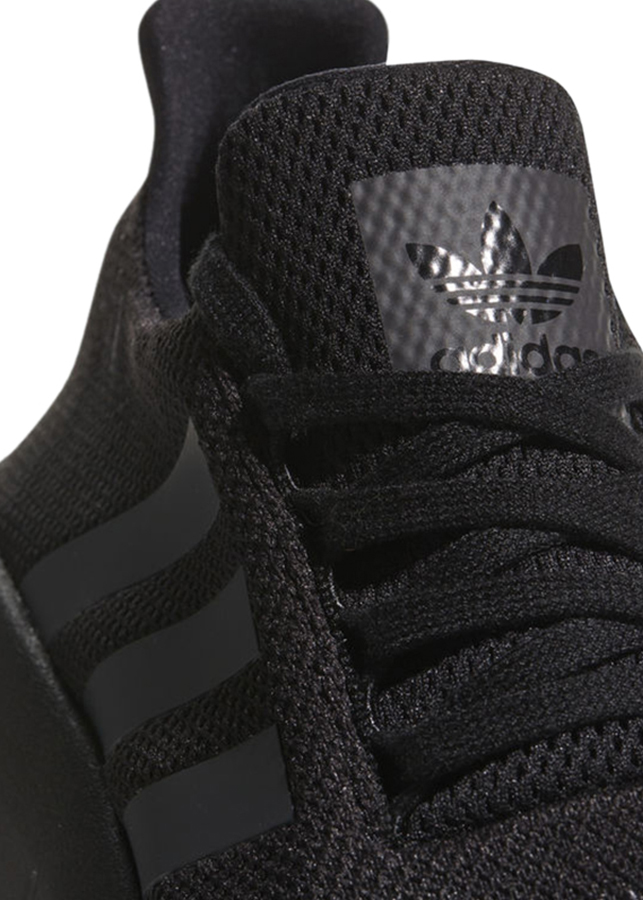Adidas: (400, 196, 606, 377)
